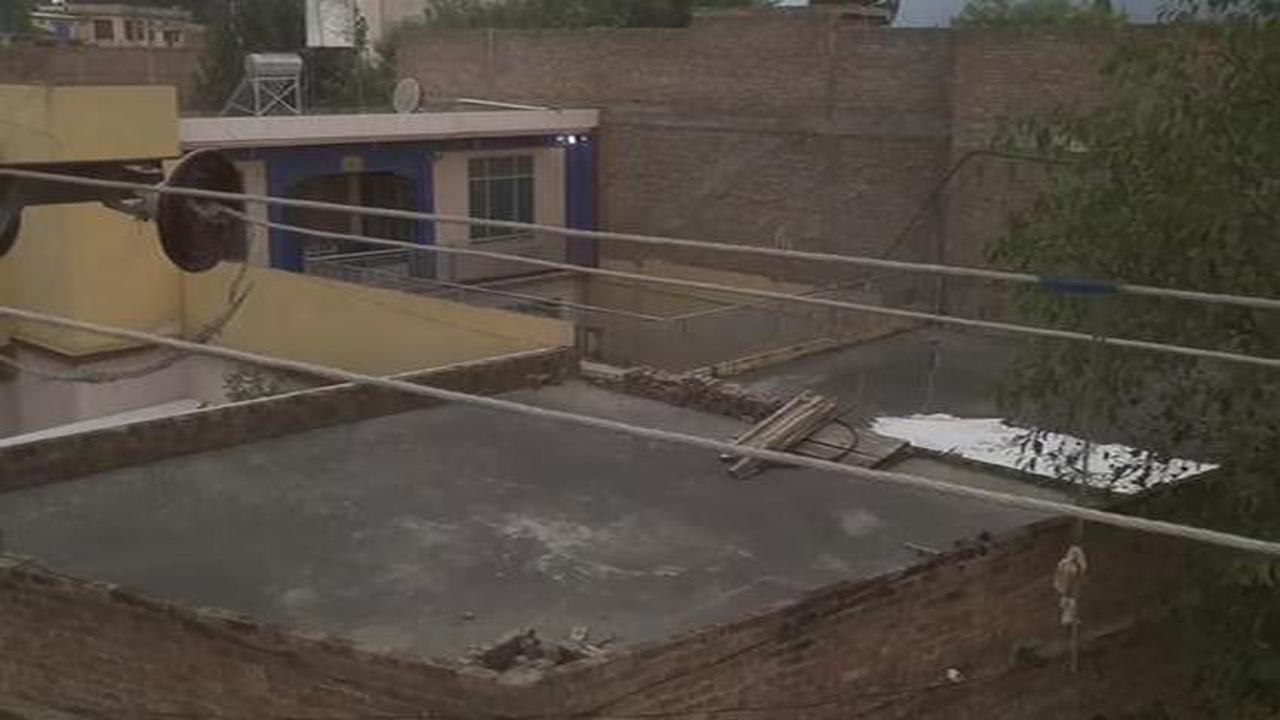insulator_disc: (151, 150, 249, 278)
